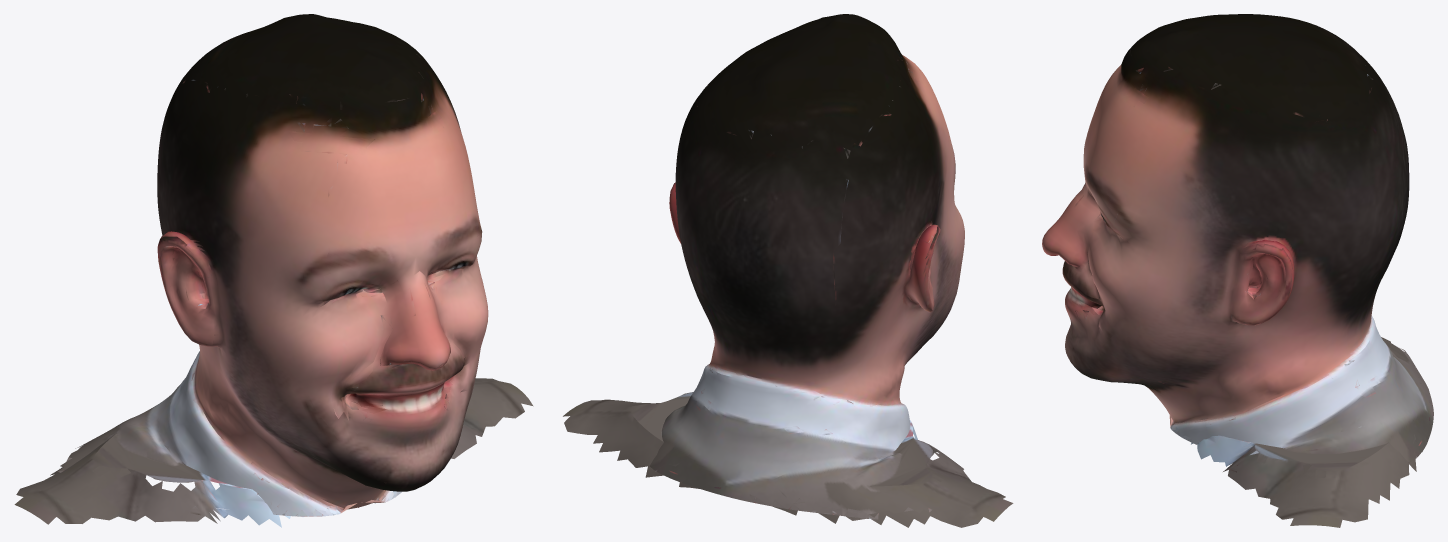
File: Mr_Mundee.glb
The picture shows the model from 3 angles, left to right: view 1: azimuth 30°, elevation 25°; view 2: azimuth 150°, elevation 25°; view 3: azimuth 270°, elevation 25°; orthographic projection. The views are drawn at different scales.
Visible parts, largest first — view 1: Mr.Mundee; view 2: Mr.Mundee; view 3: Mr.Mundee.
Part boxes in pixels (x1=…): Mr.Mundee: x1=14, y1=14, x2=533, y2=527; Mr.Mundee: x1=563, y1=14, x2=1013, y2=527; Mr.Mundee: x1=1042, y1=14, x2=1433, y2=527.
Bounding box in the file's own units: 7.46 × 6.52 × 5.75.
1 material, 1 textured.
